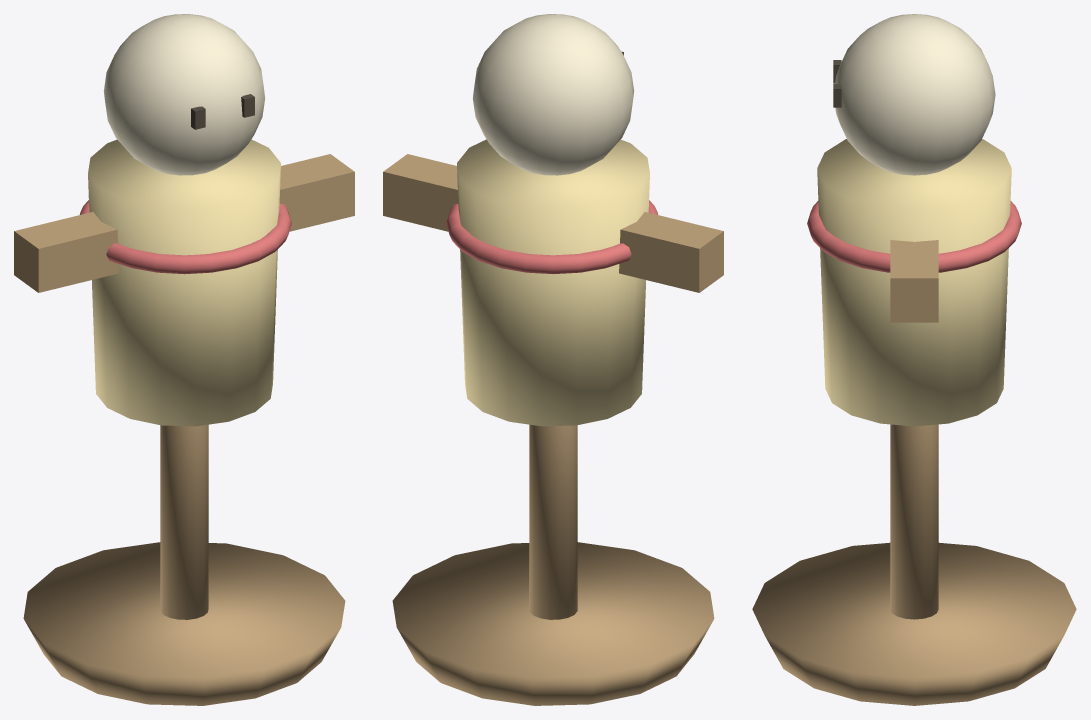
File: dummy.glb
3 views of the same model, side by side, from view 1: azimuth 30°, elevation 25°; view 2: azimuth 150°, elevation 25°; view 3: azimuth 270°, elevation 25° (orthographic).
Parts seen in each view (by area): view 1: Cone.002, Cone.001, Sphere, Cube, Cone, Torus; view 2: Cone.002, Cone.001, Sphere, Cube, Cone, Torus; view 3: Cone.002, Cone.001, Sphere, Cone, Cube, Torus.
Boxes of the visible parts, x1,y1,x2,y2 form: Cone.002: (88, 139, 280, 426); Cone.001: (23, 542, 345, 705); Sphere: (103, 14, 265, 175); Cube: (14, 154, 354, 292); Cone: (160, 424, 208, 619); Torus: (79, 200, 291, 274); Cone.002: (457, 139, 649, 426); Cone.001: (392, 542, 714, 705); Sphere: (472, 14, 634, 175); Cube: (383, 154, 723, 292); Cone: (529, 424, 577, 619); Torus: (446, 200, 658, 274); Cone.002: (817, 139, 1011, 426); Cone.001: (752, 542, 1076, 705); Sphere: (835, 14, 995, 175); Cone: (890, 424, 938, 619); Cube: (890, 240, 938, 322); Torus: (807, 201, 1021, 272).
Bounding box in the file's own units: 0.9 × 1.7 × 0.8.
